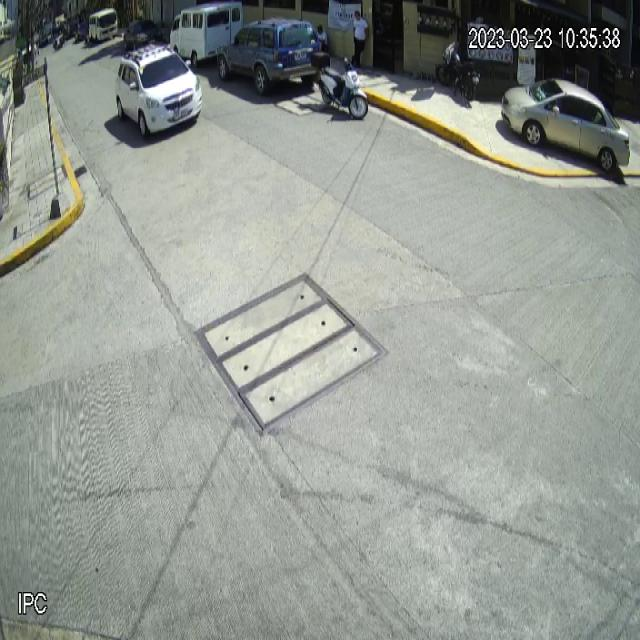Car: (501, 79, 631, 172), (115, 39, 202, 142), (217, 16, 322, 95)
Motorcycle: (311, 51, 368, 121)
Van: (170, 0, 243, 67)
